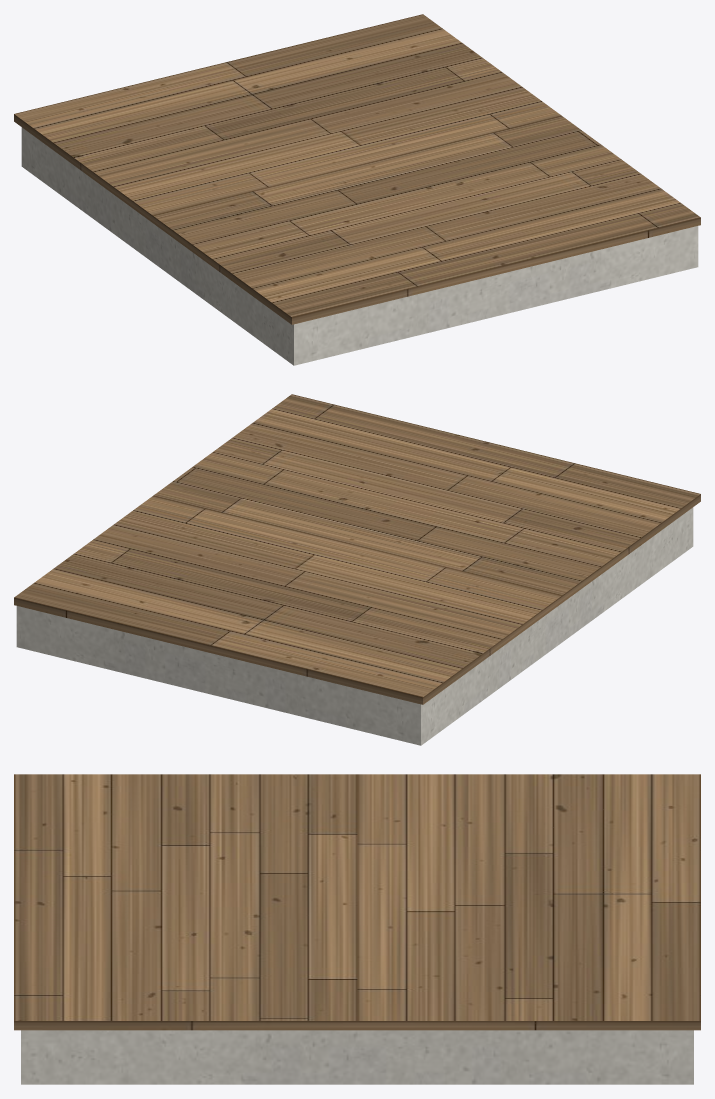
The model's file is floor_wood_c_e0_30_0_0.glb.
The picture shows the model from 3 angles, top to bottom: view 1: azimuth 30°, elevation 25°; view 2: azimuth 150°, elevation 25°; view 3: azimuth 270°, elevation 25°; orthographic projection. The views are drawn at different scales.
Visible parts, largest first — view 1: floor_wood_c_e0_30_0_0_attic, floor_wood_c_e0_30_0_0_plaster; view 2: floor_wood_c_e0_30_0_0_attic, floor_wood_c_e0_30_0_0_plaster; view 3: floor_wood_c_e0_30_0_0_attic, floor_wood_c_e0_30_0_0_plaster.
Part boxes in pixels (x1,y1,x2,y2): floor_wood_c_e0_30_0_0_attic: (14,14,700,324); floor_wood_c_e0_30_0_0_plaster: (21,127,698,365); floor_wood_c_e0_30_0_0_attic: (14,394,700,704); floor_wood_c_e0_30_0_0_plaster: (16,507,693,745); floor_wood_c_e0_30_0_0_attic: (14,774,700,1030); floor_wood_c_e0_30_0_0_plaster: (21,1030,693,1084).
Bounding box in the file's own units: 1.7 × 0.205 × 2.
Materials: 2 (2 with a texture image).
